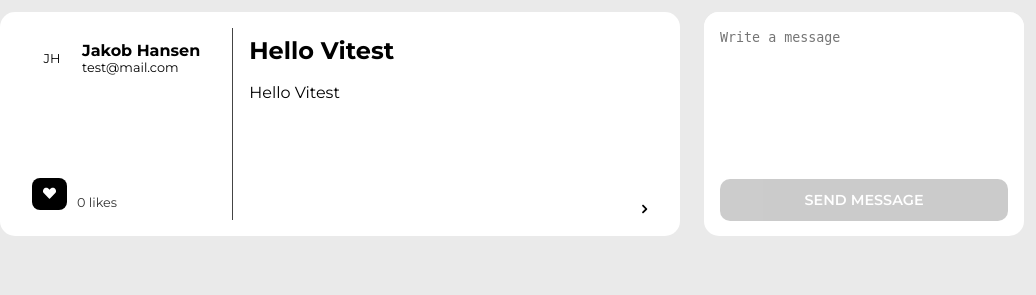
Test: MessageComponent › shows the "no messages related to this post" message
Click the button with id "see-more-btn". click: (645, 209)
box: [622, 188, 668, 230]
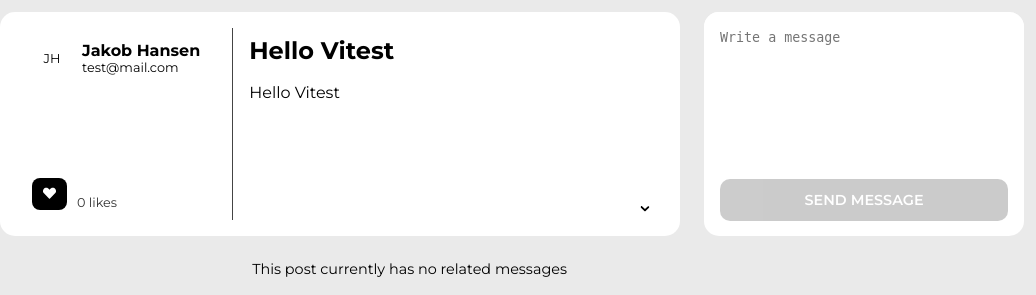
Expected: the element with class "zero_messages-container" is shown, [252, 260, 567, 278]
